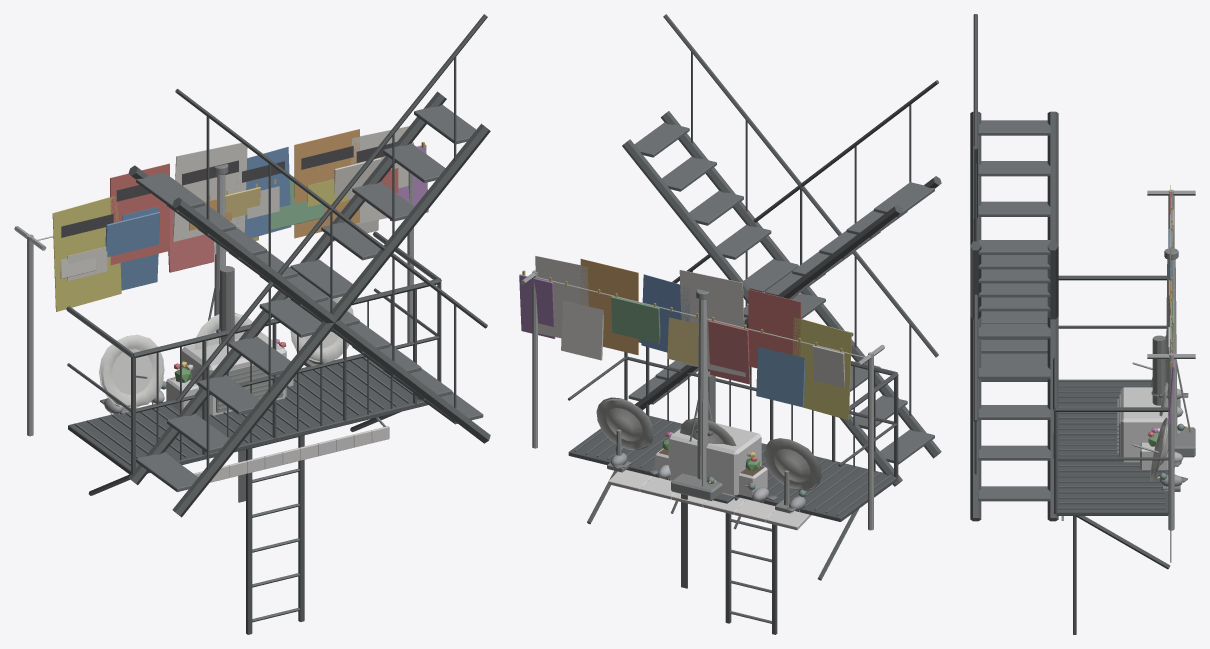
The model's file is wave3_fachada.glb.
3 views of the same model, side by side, from view 1: azimuth 30°, elevation 25°; view 2: azimuth 150°, elevation 25°; view 3: azimuth 270°, elevation 25° (orthographic). The views are drawn at different scales.
Parts seen in each view (by area): view 1: fe_stair, posters, fe_platform, fe_stair_m, laundry, satellite_row, fe_ladder, window_ac, awning_small, beacon_mast, drainpipe, flower_box; view 2: fe_stair, posters, laundry, fe_platform, fe_stair_m, satellite_row, window_ac, beacon_mast, awning_small, fe_ladder, flower_box, pigeons; view 3: fe_stair_m, fe_platform, fe_stair, window_ac, laundry, beacon_mast, satellite_row, drainpipe, flower_box, pigeons, fe_ladder.
Part boxes in pixels (bbox=[...]): fe_stair: bbox=[128, 14, 490, 517]; posters: bbox=[52, 126, 409, 311]; fe_platform: bbox=[66, 231, 441, 495]; fe_stair_m: bbox=[128, 89, 490, 443]; laundry: bbox=[14, 142, 428, 436]; satellite_row: bbox=[99, 296, 353, 414]; fe_ladder: bbox=[246, 435, 304, 634]; window_ac: bbox=[182, 332, 286, 502]; awning_small: bbox=[118, 413, 389, 482]; beacon_mast: bbox=[208, 164, 228, 344]; drainpipe: bbox=[216, 266, 234, 345]; flower_box: bbox=[166, 339, 293, 410]; fe_stair: bbox=[622, 14, 941, 486]; posters: bbox=[535, 255, 851, 420]; laundry: bbox=[519, 270, 884, 530]; fe_platform: bbox=[568, 346, 898, 580]; fe_stair_m: bbox=[628, 80, 941, 410]; satellite_row: bbox=[596, 397, 821, 513]; window_ac: bbox=[668, 423, 761, 588]; beacon_mast: bbox=[671, 289, 722, 500]; awning_small: bbox=[608, 470, 811, 530]; fe_ladder: bbox=[725, 513, 777, 634]; flower_box: bbox=[655, 432, 767, 497]; pigeons: bbox=[610, 446, 806, 512]; fe_stair_m: bbox=[970, 14, 1058, 521]; fe_platform: bbox=[1053, 275, 1170, 569]; fe_stair: bbox=[970, 145, 1058, 381]; window_ac: bbox=[1117, 387, 1174, 562]; laundry: bbox=[1147, 189, 1195, 530]; beacon_mast: bbox=[1164, 248, 1195, 457]; satellite_row: bbox=[1132, 335, 1180, 491]; drainpipe: bbox=[1151, 335, 1168, 405]; flower_box: bbox=[1140, 427, 1168, 469]; pigeons: bbox=[1157, 388, 1188, 486]; fe_ladder: bbox=[1073, 516, 1076, 634].
Bounding box in the file's own units: 3.37 × 4.96 × 1.86.
